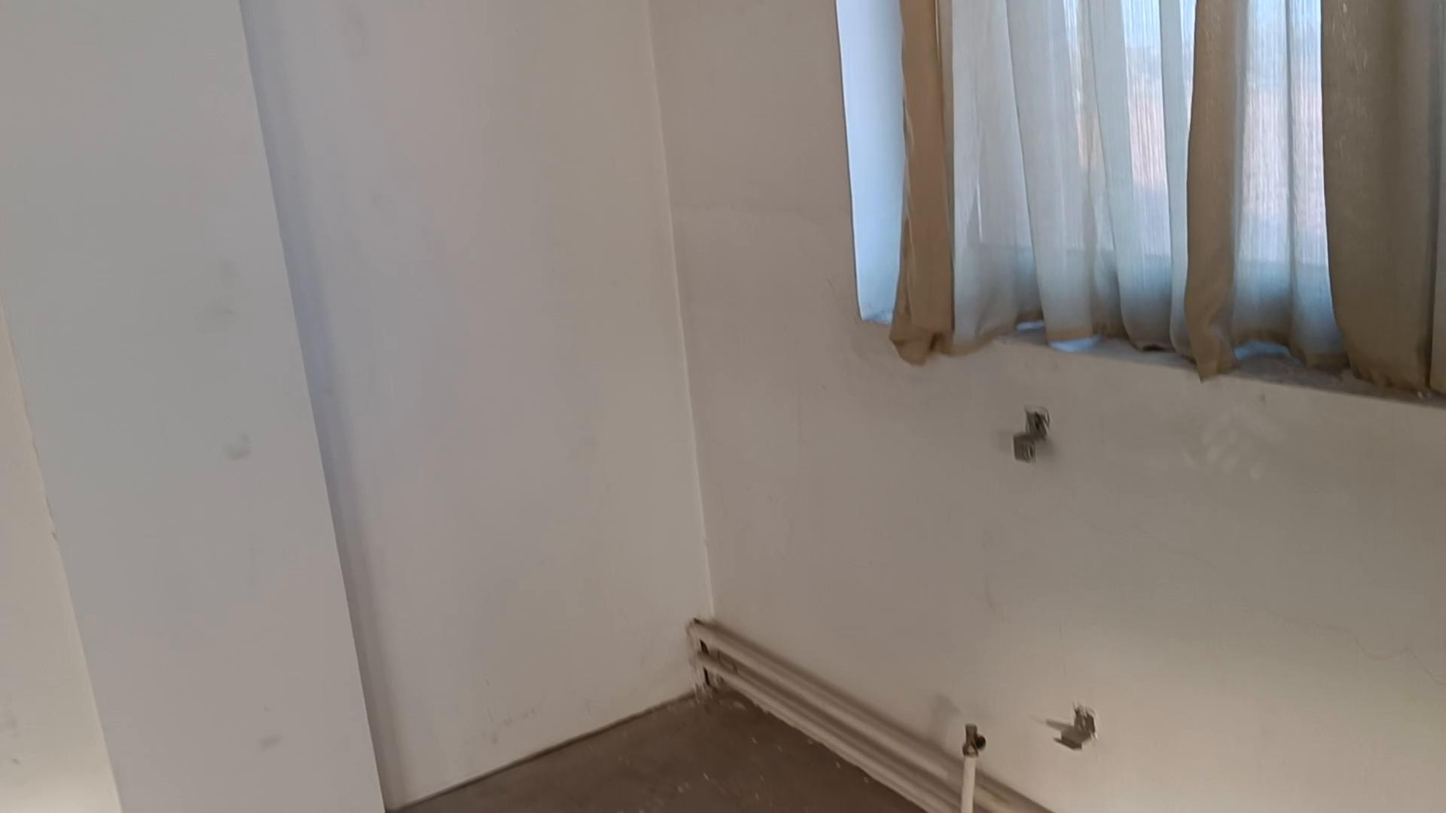floor: (392, 693, 923, 812), (394, 693, 924, 812)
wall: (0, 0, 1445, 812), (242, 0, 710, 805), (5, 324, 114, 812)
